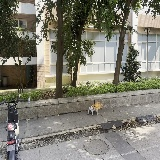fire: (92, 101, 103, 109)
